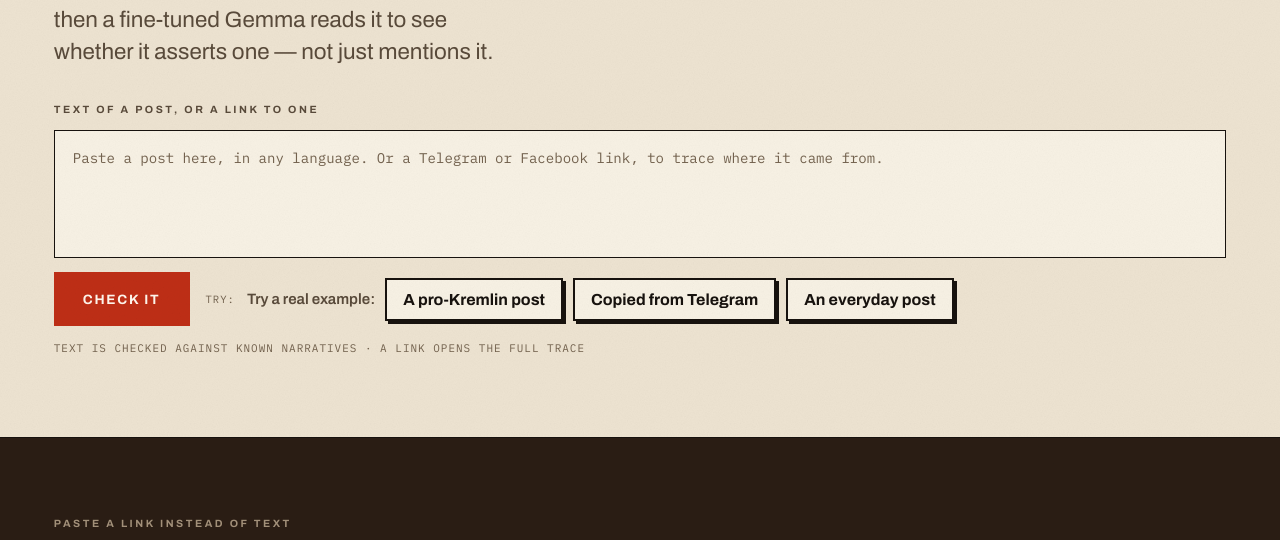
Test: the start page's text box runs the narrative check › error: the module isn't deployed (404), with a retry
(page scrolled)
Type "The Kyiv regime is nothing but an American puppet. Washington gives the orders and Zelensky obeys, while ordinary Ukrainians die for NATO's war. Wake up!" into the text box labelled "Text of a post, or a link to one" at (640,194), box left=54, top=130, right=1226, bottom=258
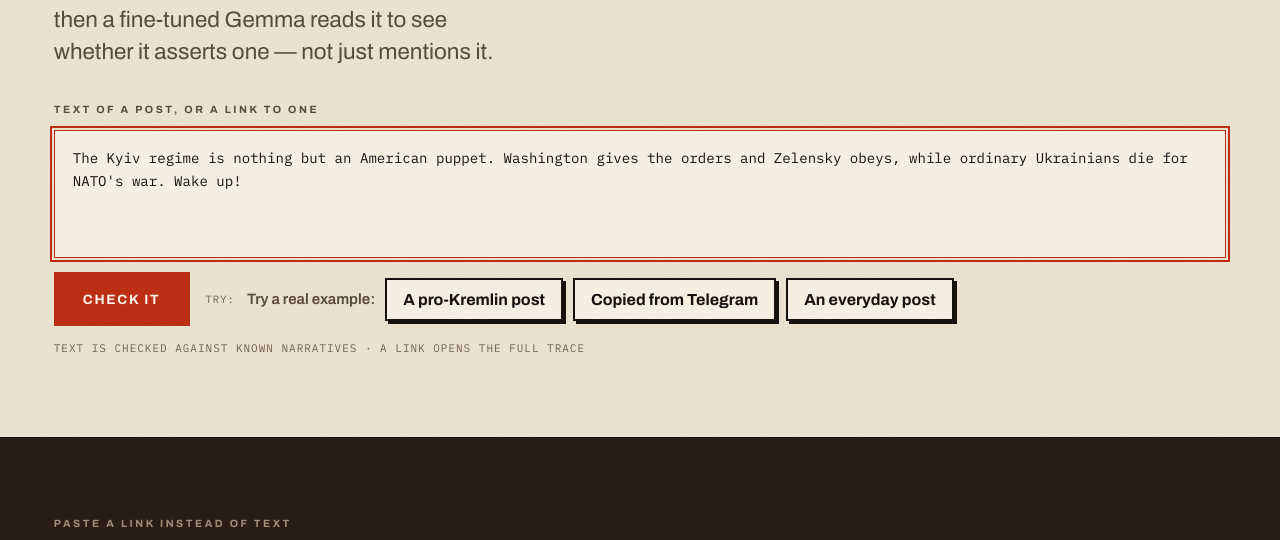
Click the button "Check it" at (122,299), box left=54, top=272, right=190, bottom=326
(page scrolled)
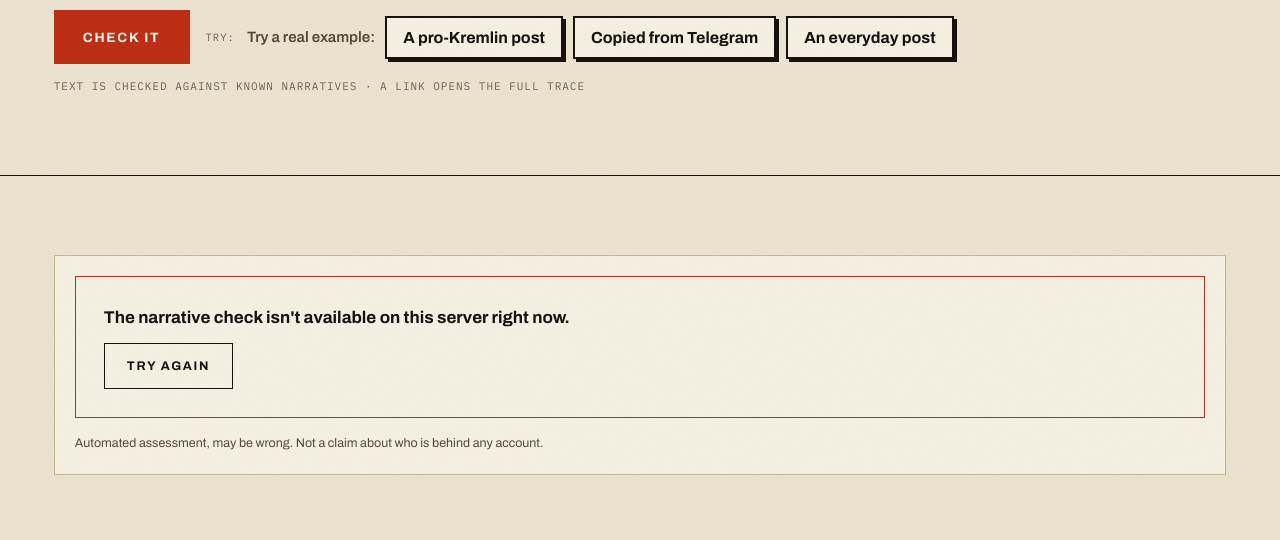
Expected: the message shows "The narrative check isn't available on this server right now.", left=104, top=308, right=570, bottom=327
Expected: the button "Try again" is shown, left=104, top=343, right=233, bottom=389
